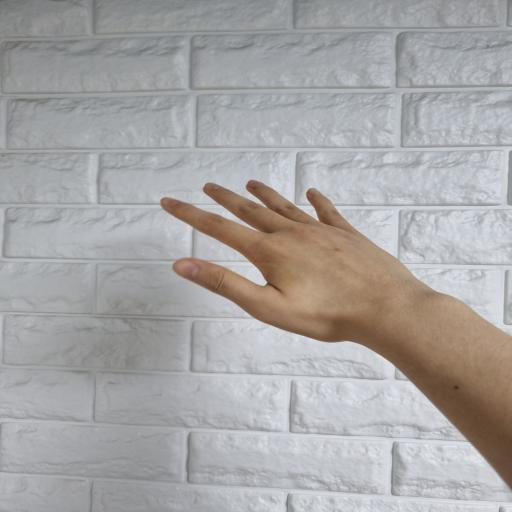Paper: (161, 179, 512, 492)
